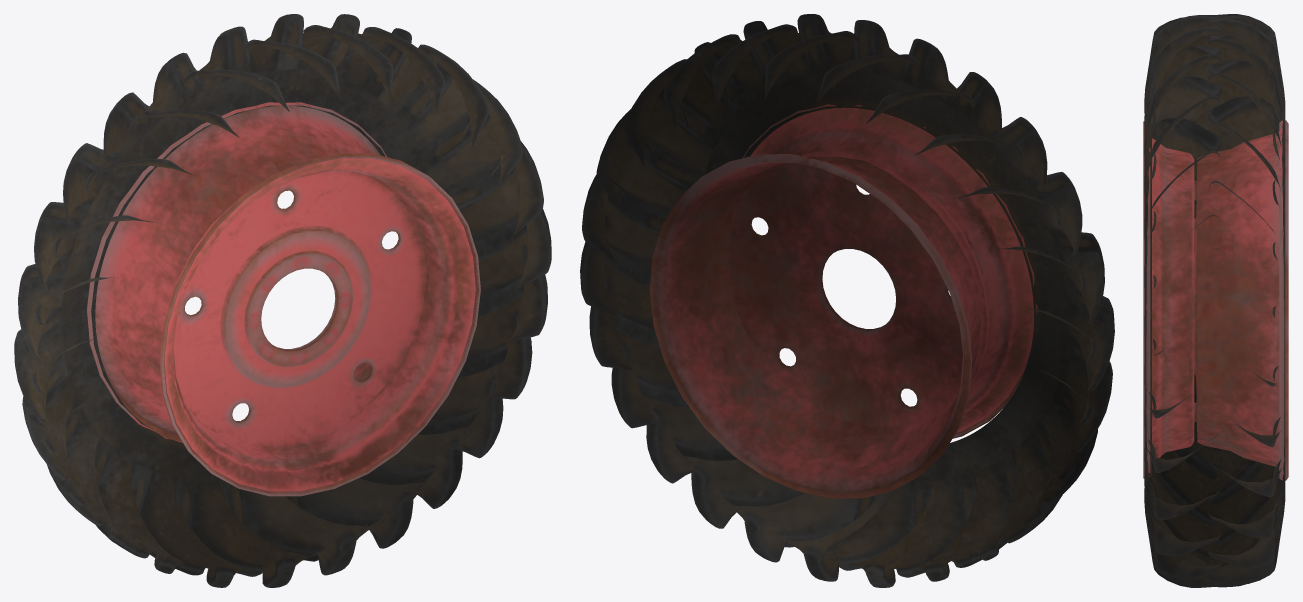
File: Wheel_Back.obj
The picture shows the model from 3 angles, left to right: view 1: azimuth 30°, elevation 25°; view 2: azimuth 150°, elevation 25°; view 3: azimuth 270°, elevation 25°; orthographic projection. The views are drawn at different scales.
Parts seen in each view (by area): view 1: Wheel_Back; view 2: Wheel_Back; view 3: Wheel_Back.
Boxes of the visible parts, bbox=[...] form: Wheel_Back: bbox=[14, 14, 551, 587]; Wheel_Back: bbox=[580, 14, 1114, 587]; Wheel_Back: bbox=[1143, 14, 1288, 587].
Bounding box in the file's own units: 1.62 × 1.67 × 0.4186.
